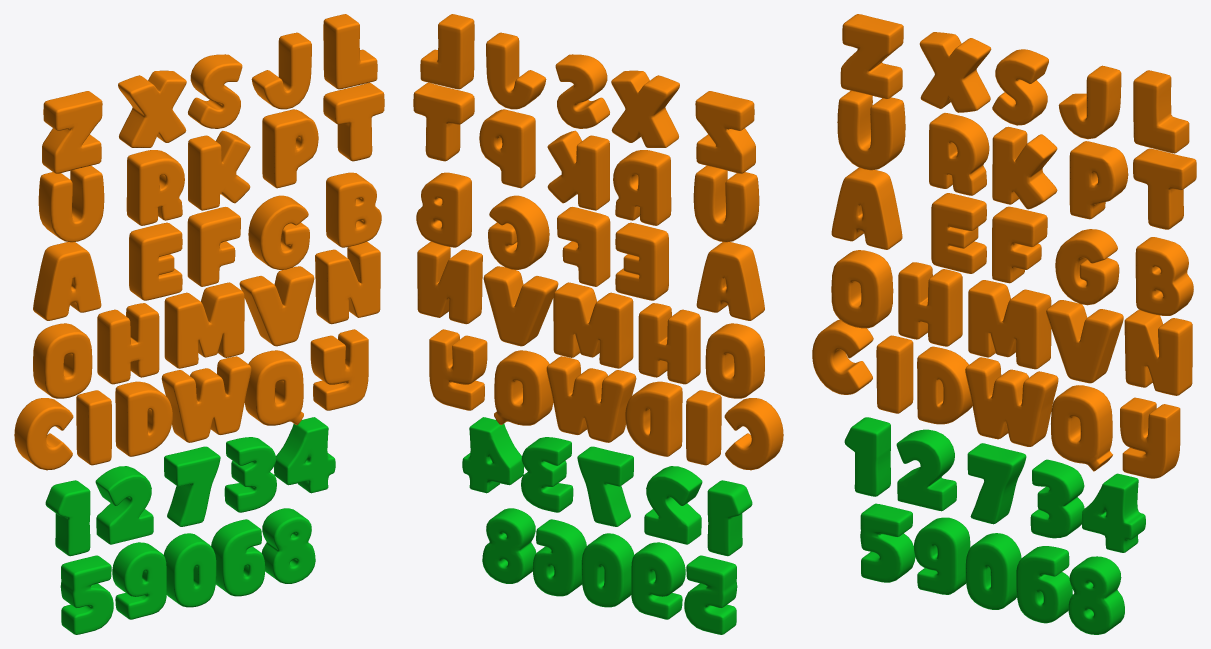
File: simple_alphabet.glb
3 views of the same model, side by side, from view 1: azimuth 30°, elevation 25°; view 2: azimuth 150°, elevation 25°; view 3: azimuth 330°, elevation 25° (orthographic). The views are drawn at different scales.
Parts seen in each view (by area): view 1: A:M, A:W, A:N, A:H, A:U, A:Z, A:A, A:V, A:Y, A:X, A:K, A:R (+24 smaller); view 2: A:M, A:W, A:N, A:H, A:U, A:Z, A:A, A:V, A:Y, A:X, A:K, A:R (+24 smaller); view 3: A:M, A:W, A:N, A:H, A:U, A:V, A:A, A:Q, A:X, A:Z, A:Y, A:K (+24 smaller).
Part boxes in pixels (x1,y1,x2,y2): A:M: (164,282,244,368); A:W: (161,356,251,442); A:N: (315,241,380,324); A:H: (97,303,159,384); A:U: (38,165,104,242); A:Z: (42,91,102,173); A:A: (33,242,101,320); A:V: (239,266,314,346); A:Y: (310,329,368,410); A:X: (118,70,186,147); A:K: (188,130,250,210); A:R: (126,150,184,225); A:M: (553,282,633,368); A:W: (546,356,636,442); A:N: (417,241,482,324); A:H: (638,303,700,384); A:U: (693,165,759,242); A:Z: (695,91,755,173); A:A: (696,242,764,320); A:V: (483,266,558,346); A:Y: (429,329,487,410); A:X: (611,70,679,147); A:K: (547,130,609,210); A:R: (613,150,671,225); A:M: (968,280,1051,369); A:W: (965,357,1058,446); A:N: (1124,310,1192,395); A:H: (898,262,962,346); A:U: (837,90,905,170); A:V: (1046,300,1123,383); A:A: (831,167,902,249); A:Q: (1051,385,1112,471); A:X: (919,32,991,112); A:Z: (840,14,903,98); A:Y: (1120,397,1180,478); A:K: (992,126,1057,209).
Bounding box in the file's own units: 2.02 × 2.94 × 0.1353.
